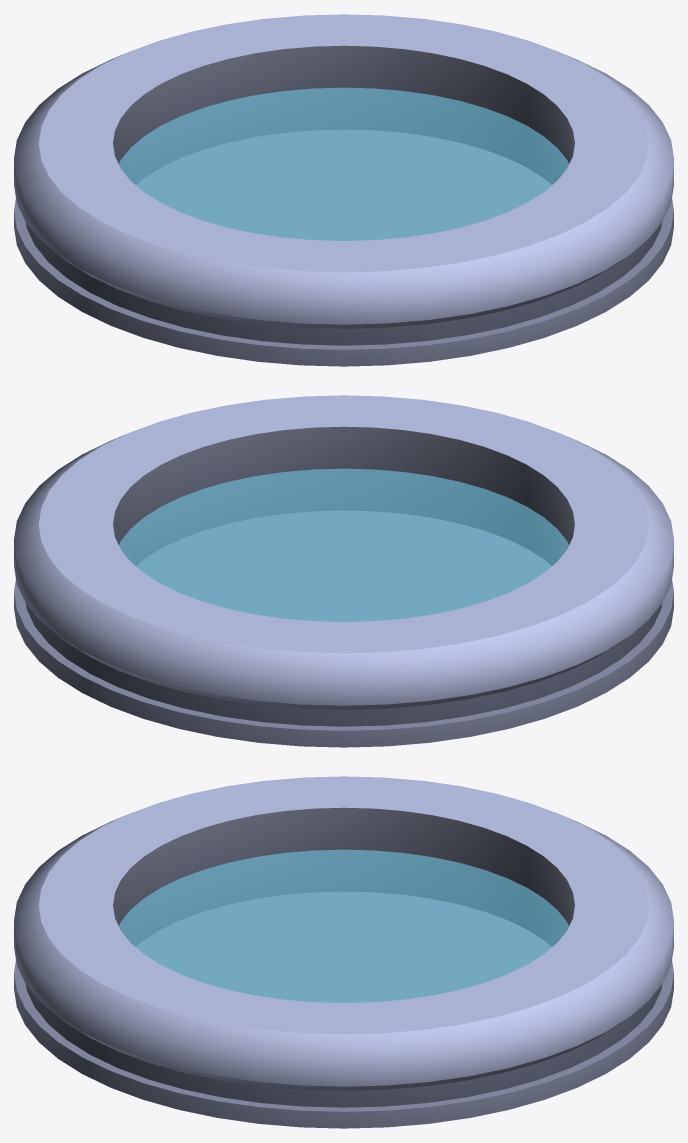
The model's file is fountain-round.glb.
3 renders of one model, top to bottom at view 1: azimuth 30°, elevation 25°; view 2: azimuth 150°, elevation 25°; view 3: azimuth 270°, elevation 25°, orthographic.
Visible parts, largest first — view 1: fountain-round, (%ignore); view 2: fountain-round, (%ignore); view 3: fountain-round, (%ignore).
Boxes of the visible parts, left/top/right/bottom form: fountain-round: left=14, top=14, right=673, bottom=366; (%ignore): left=119, top=87, right=568, bottom=240; fountain-round: left=14, top=395, right=673, bottom=747; (%ignore): left=119, top=468, right=568, bottom=621; fountain-round: left=14, top=776, right=673, bottom=1128; (%ignore): left=119, top=849, right=568, bottom=1002.
Bounding box in the file's own units: 2 × 0.28 × 2.
2 materials, 1 textured.
